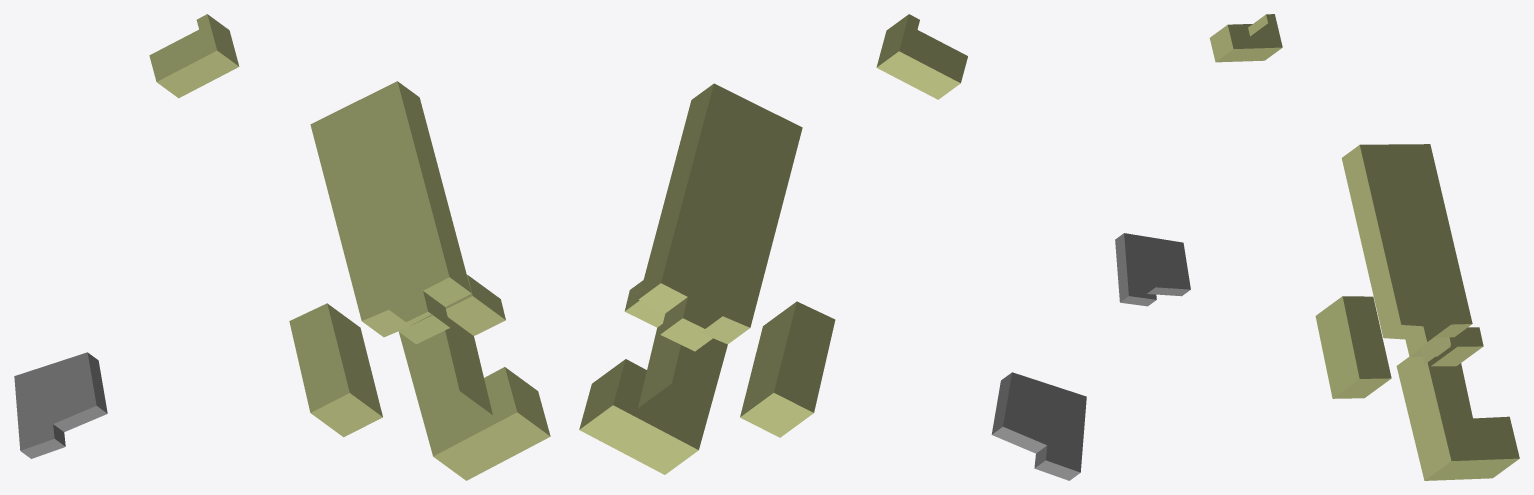
3 renders of one model, left to right at view 1: azimuth 30°, elevation 25°; view 2: azimuth 150°, elevation 25°; view 3: azimuth 330°, elevation 25°, orthographic. The views are drawn at different scales.
Visible parts, largest first — view 1: 0_1_0_2_0_0_2_1; view 2: 0_1_0_2_0_0_2_1; view 3: 0_1_0_2_0_0_2_1.
Part boxes in pixels (<box>): 0_1_0_2_0_0_2_1: <box>14,14,550,480</box>; 0_1_0_2_0_0_2_1: <box>579,14,1086,480</box>; 0_1_0_2_0_0_2_1: <box>1115,14,1519,480</box>.
Bounding box in the file's own units: 77.18 × 73.52 × 11.1.
